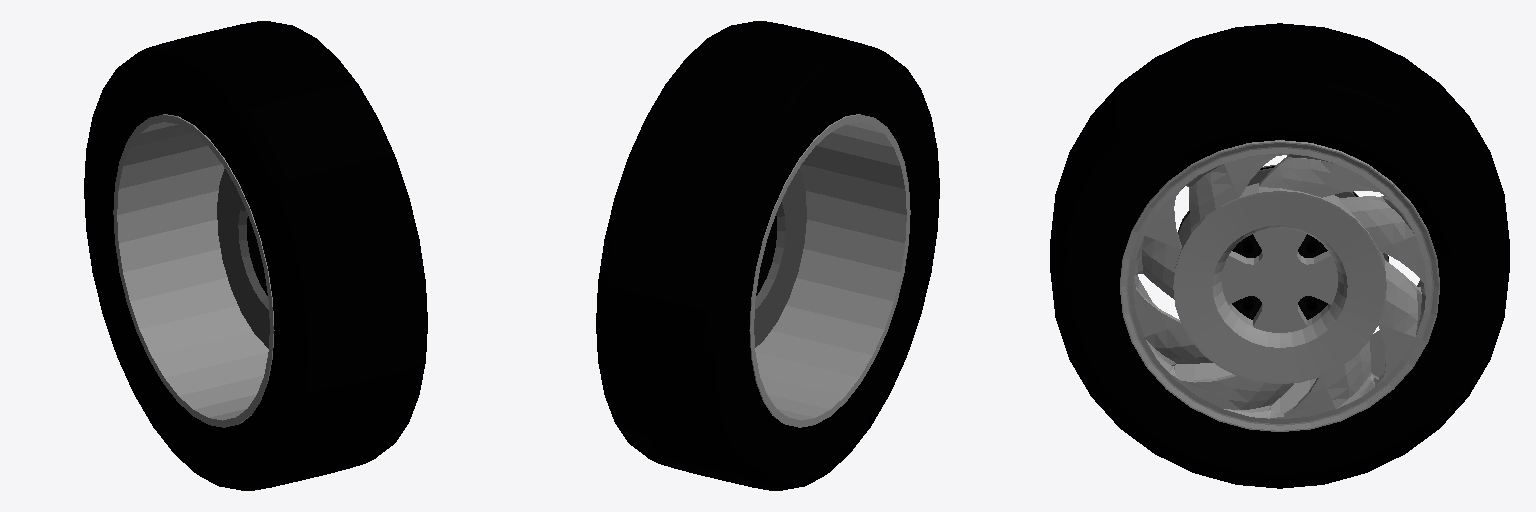
The model's file is wheel.obj.
3 renders of one model, left to right at view 1: azimuth 30°, elevation 25°; view 2: azimuth 150°, elevation 25°; view 3: azimuth 270°, elevation 25°, orthographic.
Visible parts, largest first — view 1: Tyre, RimInside, Disc.001; view 2: Tyre, RimInside, Disc.001; view 3: Tyre, Rim2.004, Rim1.004, RimInside, Disc.001.
Boxes of the visible parts, x1,y1,x2,y2 form: Tyre: [84, 21, 427, 490]; RimInside: [113, 114, 274, 427]; Disc.001: [217, 169, 269, 348]; Tyre: [596, 21, 939, 490]; RimInside: [749, 114, 910, 427]; Disc.001: [754, 169, 806, 347]; Tyre: [1050, 23, 1509, 488]; Rim2.004: [1120, 140, 1439, 431]; Rim1.004: [1173, 183, 1386, 383]; RimInside: [1120, 140, 1439, 413]; Disc.001: [1178, 165, 1388, 261].
Bounding box in the file's own units: 0.2021 × 0.6187 × 0.6187.